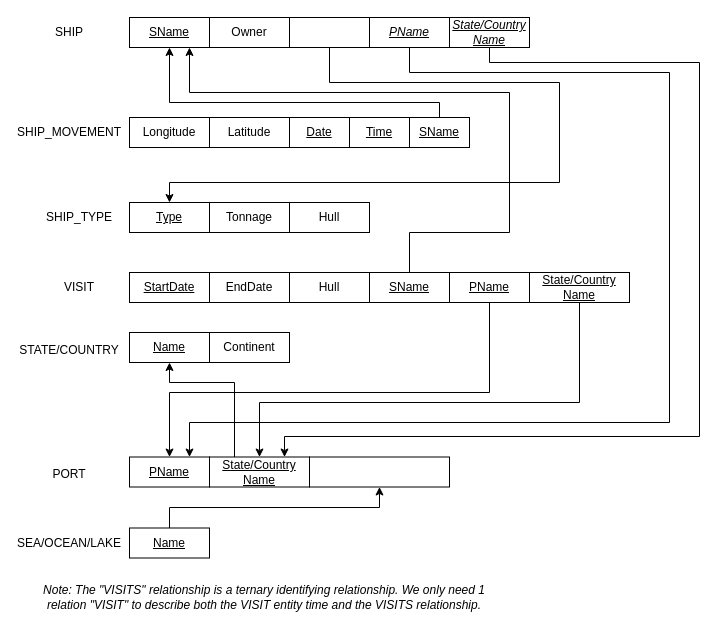
The diagram is 725 pixels wide and 630 high, and some of its shapes have lost their labels. Each missing label, with the box of its shape:
Sea/Ocean/Lake Name: (308, 456, 450, 487)
ShipType: (288, 16, 370, 48)
